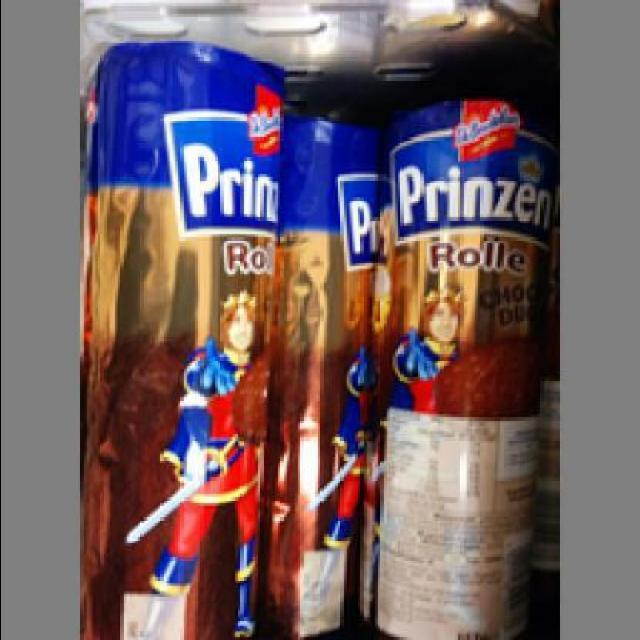Merendine: (90, 37, 292, 637), (372, 94, 556, 637), (274, 83, 386, 637)
